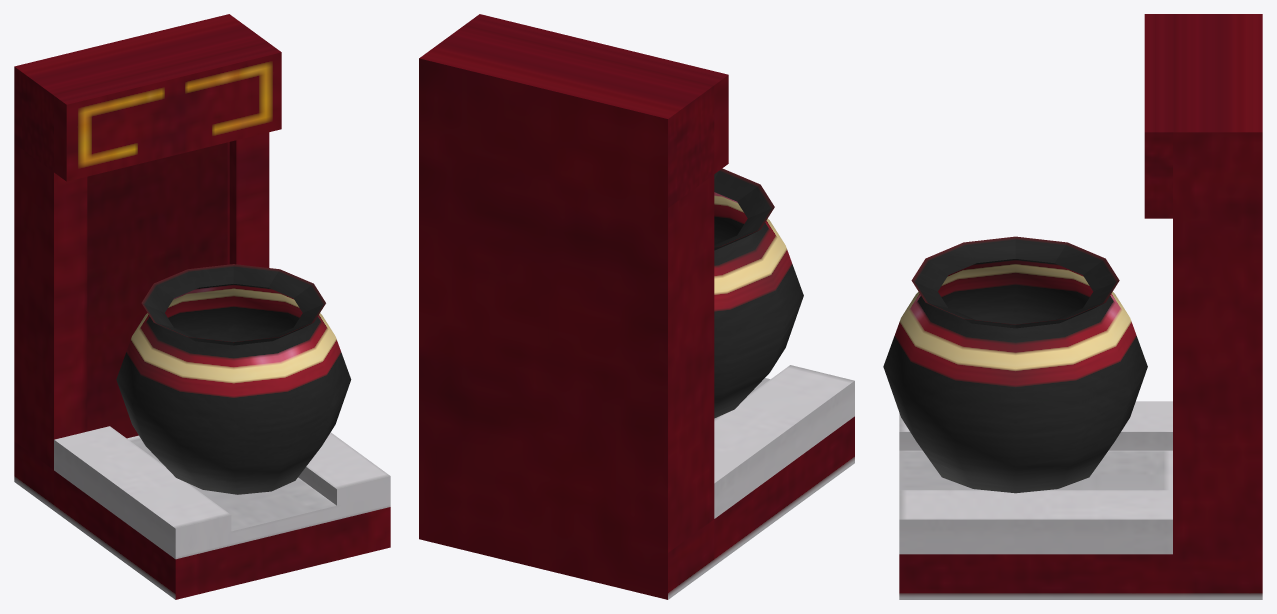
Rendered from pot2.FBX.
3 views of the same model, side by side, from view 1: azimuth 30°, elevation 25°; view 2: azimuth 150°, elevation 25°; view 3: azimuth 270°, elevation 25° (orthographic). The views are drawn at different scales.
Parts seen in each view (by area): view 1: Sphere001; view 2: Sphere001; view 3: Sphere001.
Boxes of the visible parts, x1,y1,x2,y2 form: Sphere001: (14,14,390,599); Sphere001: (419,14,854,599); Sphere001: (883,14,1262,599).
Bounding box in the file's own units: 110 × 202 × 149.
Materials: 1 (1 with a texture image).
